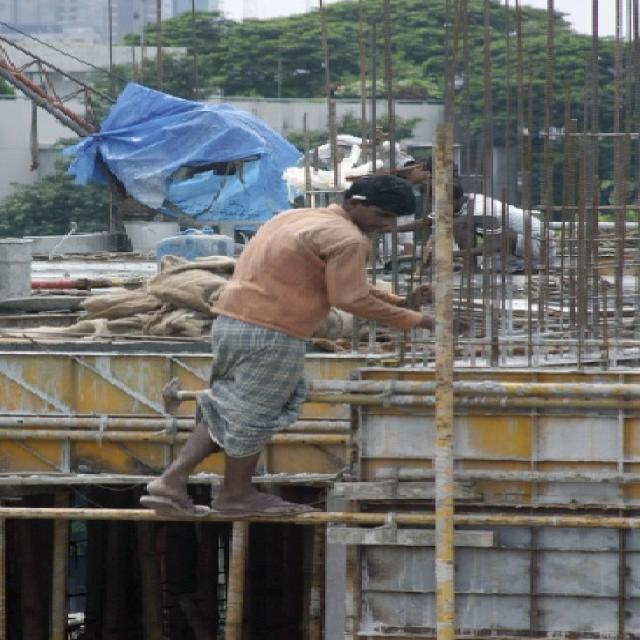no-boots: (212, 458, 338, 521), (150, 422, 209, 532)
no-gloves: (366, 267, 436, 360)
no-goggles: (356, 199, 413, 235)
no-helmet: (294, 169, 424, 252)
no-vest: (215, 188, 382, 342)
person: (150, 157, 447, 532)
